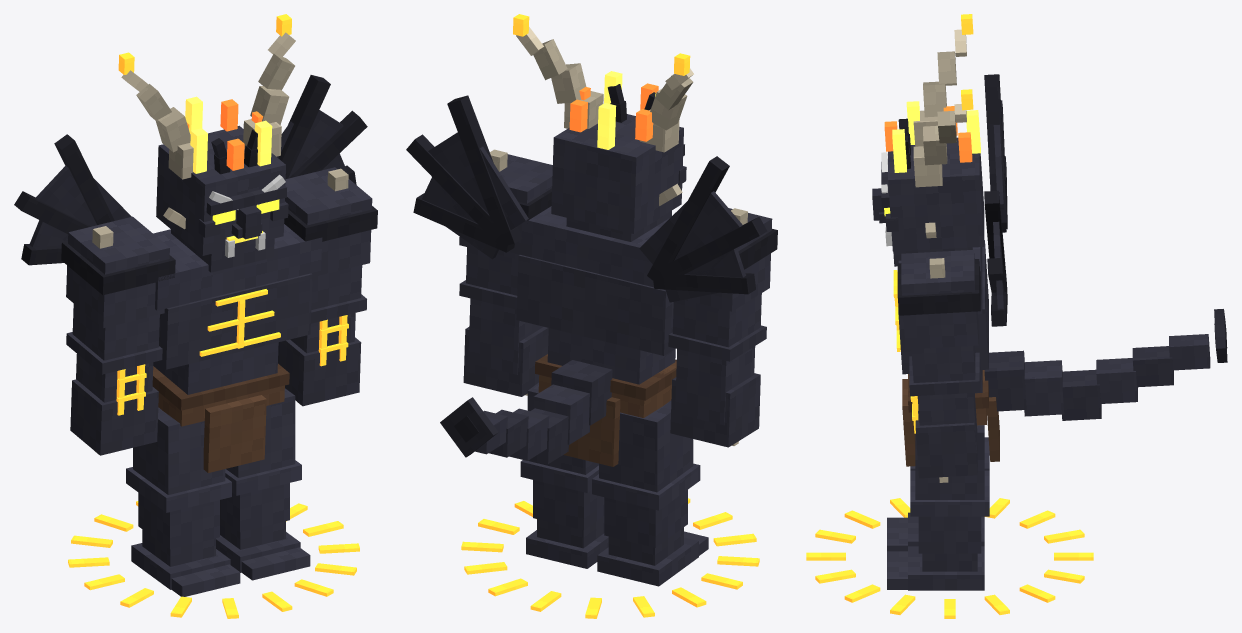
Rendered from demon_base_v3_evo3.glb.
3 views of the same model, side by side, from view 1: azimuth 30°, elevation 25°; view 2: azimuth 150°, elevation 25°; view 3: azimuth 270°, elevation 25° (orthographic). The views are drawn at different scales.
Visible parts, largest first — view 1: Torso, Head, ArmR, ArmL, LegR, LegL, Root; view 2: Torso, Head, ArmR, LegR, ArmL, LegL, Root; view 3: Torso, Head, ArmL, LegL, Root, LegR.
Boxes of the visible parts, box(x1,y1,x2,y2) form: Torso: box(14, 75, 367, 472); Head: box(118, 14, 295, 272); ArmR: box(61, 216, 175, 455); ArmL: box(278, 167, 377, 406); LegR: box(126, 407, 240, 596); LegL: box(216, 388, 310, 580); Root: box(68, 501, 359, 618); Torso: box(406, 95, 767, 466); Head: box(513, 14, 693, 241); ArmR: box(668, 208, 777, 447); LegR: box(592, 400, 708, 586); ArmL: box(459, 149, 552, 396); LegL: box(520, 382, 608, 568); Root: box(461, 498, 759, 618); Torso: box(893, 74, 1227, 466); Head: box(872, 14, 984, 266); ArmL: box(897, 249, 980, 482); LegL: box(887, 425, 989, 590); Root: box(806, 498, 1093, 618); LegR: box(887, 437, 989, 551).
Size of the model in its own units: 1.58 by 2.25 by 1.7.
31 materials, 31 textured.
